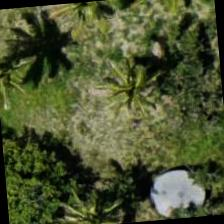Kelapa_Sawit: (78, 50, 176, 148), (23, 162, 120, 223)
